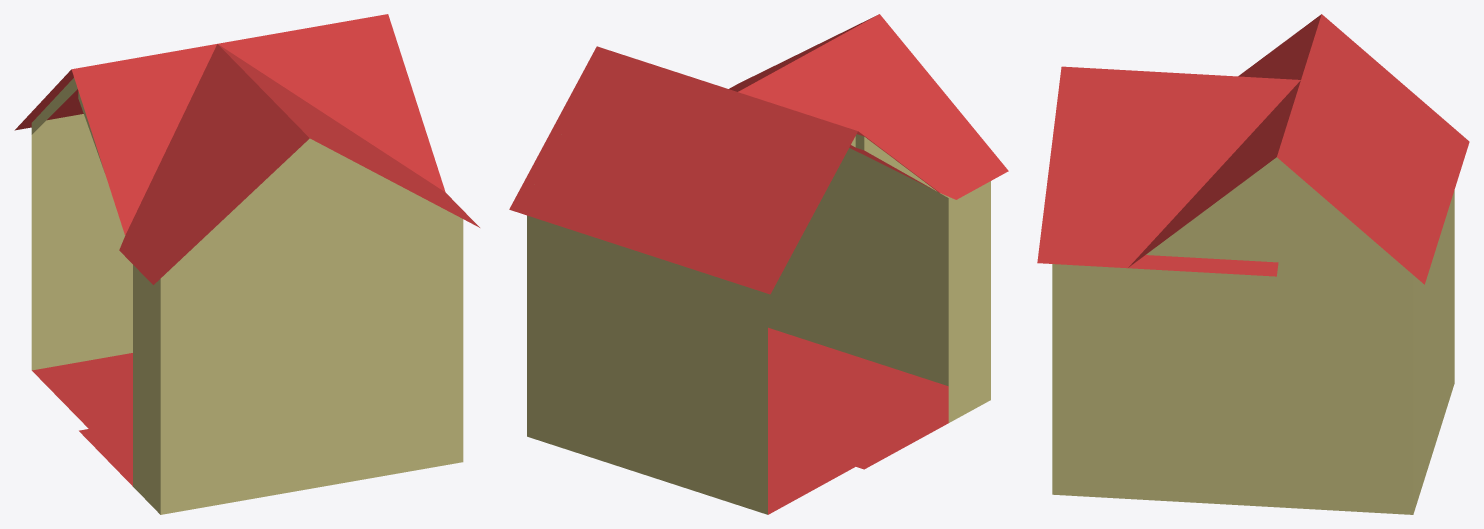
3 views of the same model, side by side, from view 1: azimuth 30°, elevation 25°; view 2: azimuth 150°, elevation 25°; view 3: azimuth 270°, elevation 25° (orthographic). The views are drawn at different scales.
Size of the model in its own units: 15.17 by 16.34 by 14.83.
